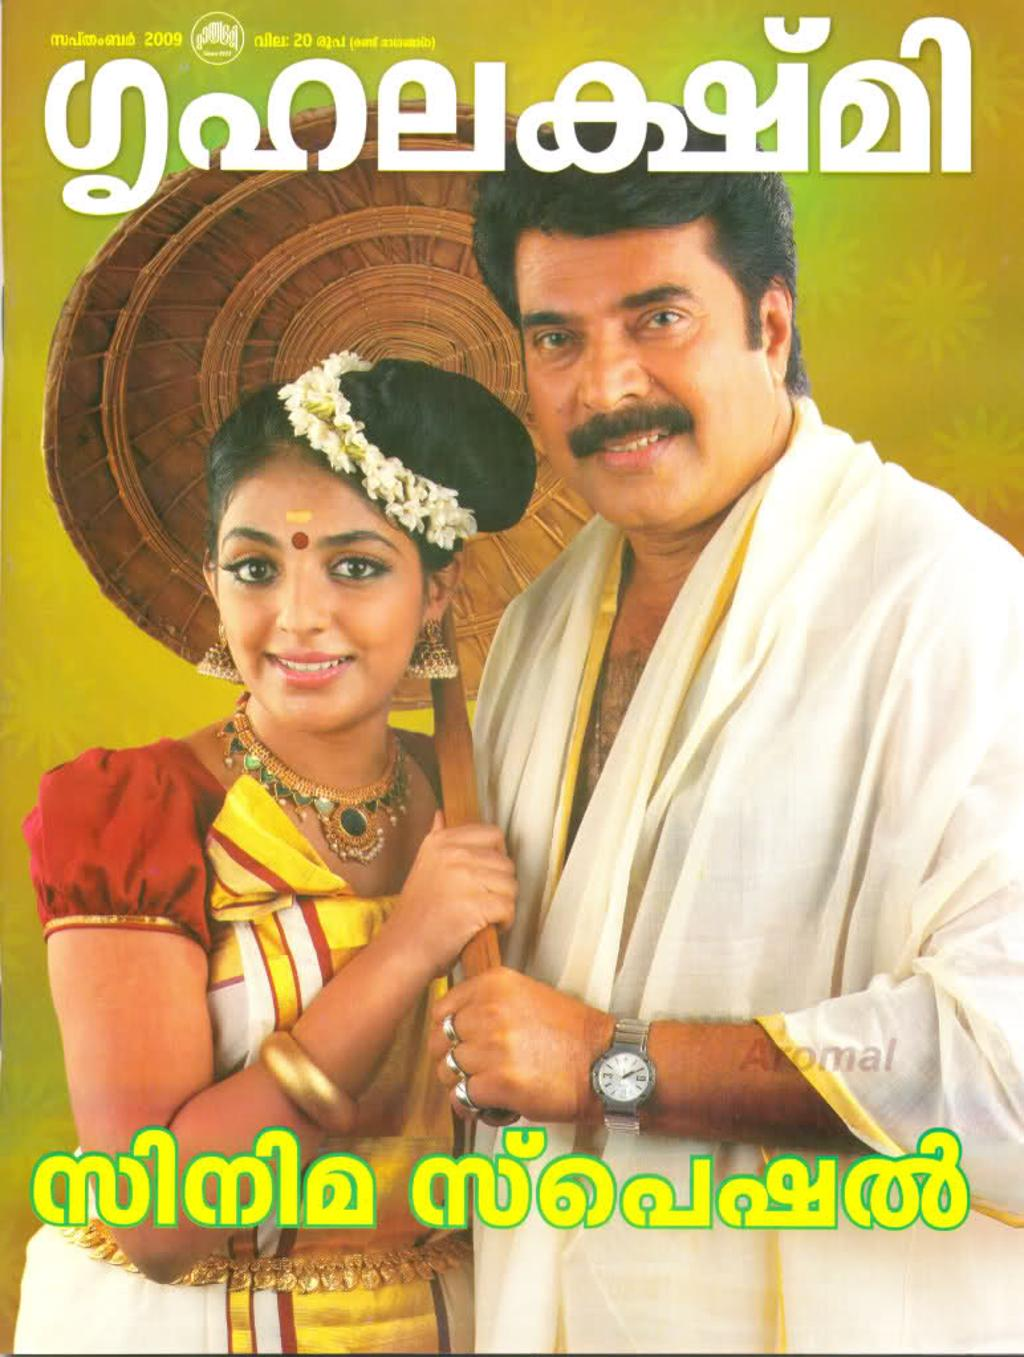face: (525, 210, 766, 526), (220, 454, 414, 722)
